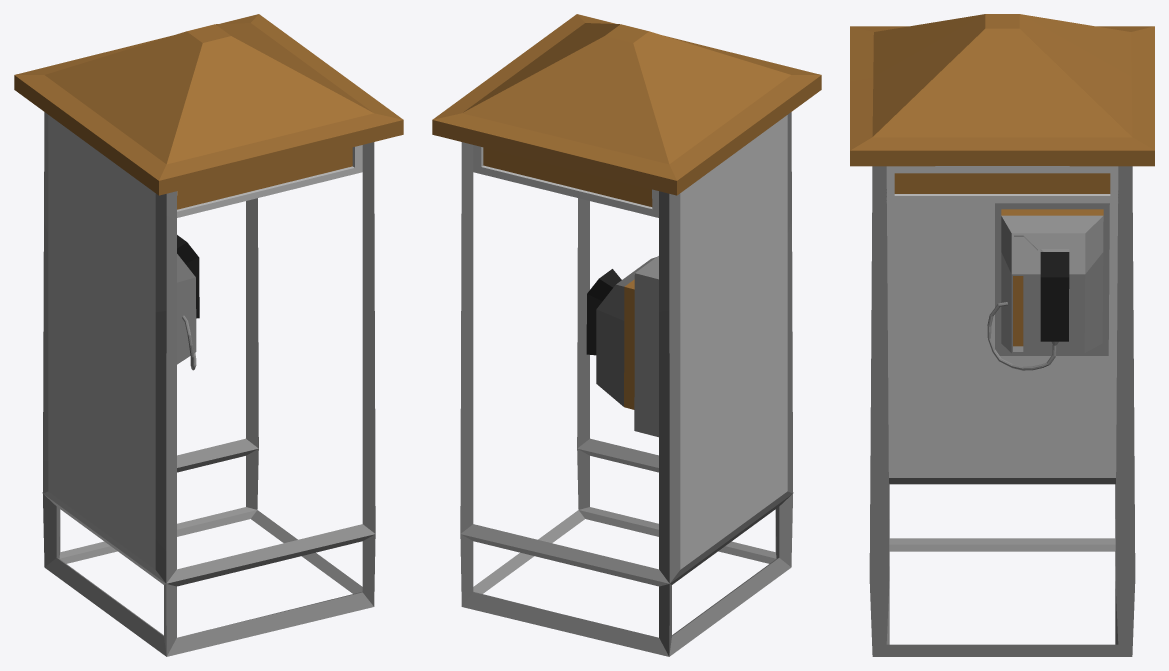
File: PhoneBox.fbx
3 renders of one model, left to right at view 1: azimuth 30°, elevation 25°; view 2: azimuth 150°, elevation 25°; view 3: azimuth 270°, elevation 25°, orthographic. The views are drawn at different scales.
Parts seen in each view (by area): view 1: PhoneBox; view 2: PhoneBox; view 3: PhoneBox.
Part boxes in pixels (x1,y1,x2,y2): PhoneBox: [14, 14, 403, 656]; PhoneBox: [432, 14, 821, 656]; PhoneBox: [850, 14, 1154, 656].
Bounding box in the file's own units: 95.54 × 206 × 97.8.
